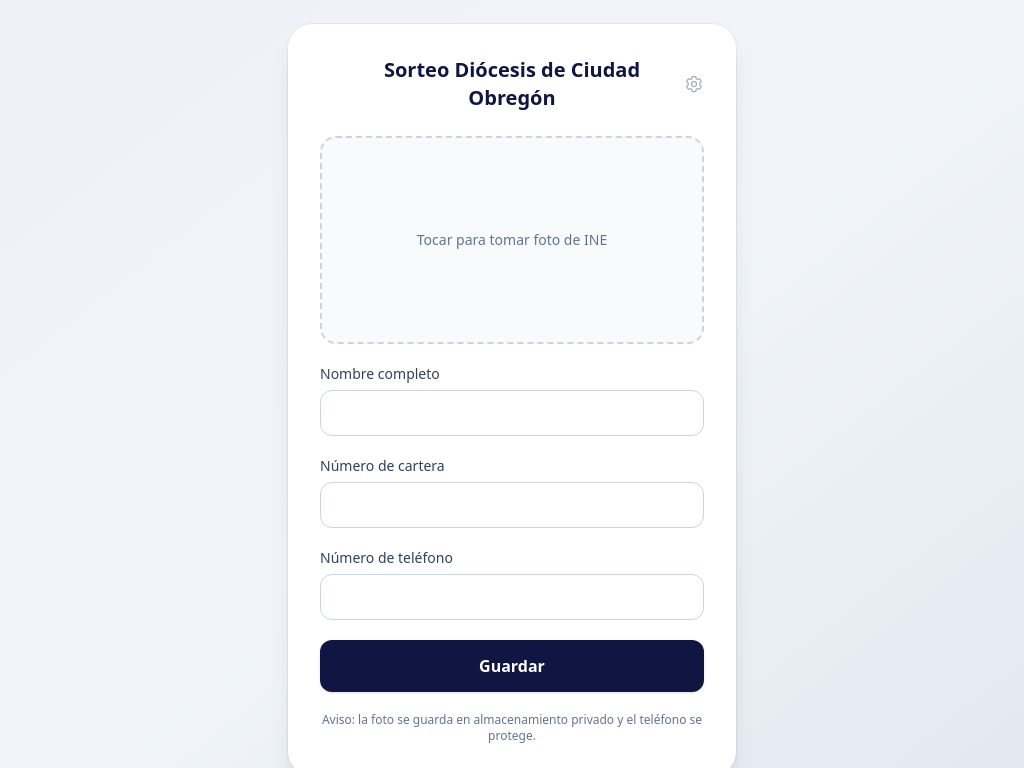
Test: HomeView › pide la foto si los campos están completos pero no hay foto
In the field labelled "Nombre completo": (512, 413) [320,390,704,436], type "Juan Pérez"
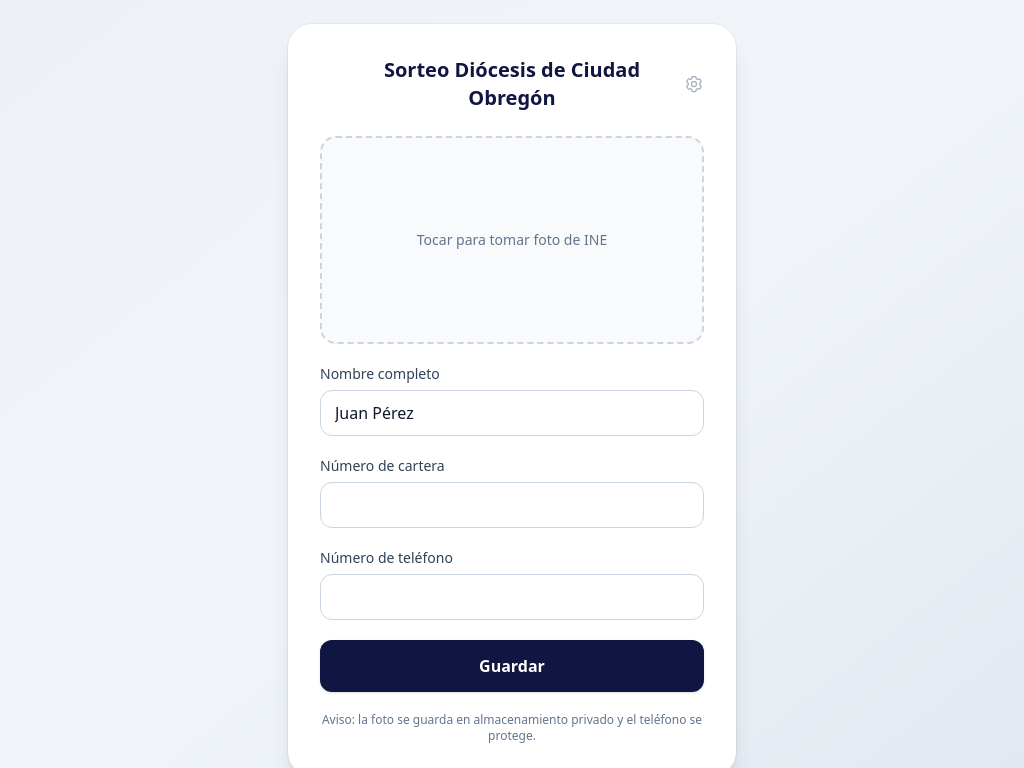
In the field labelled "Número de cartera": (512, 505) [320,482,704,528], type "7"
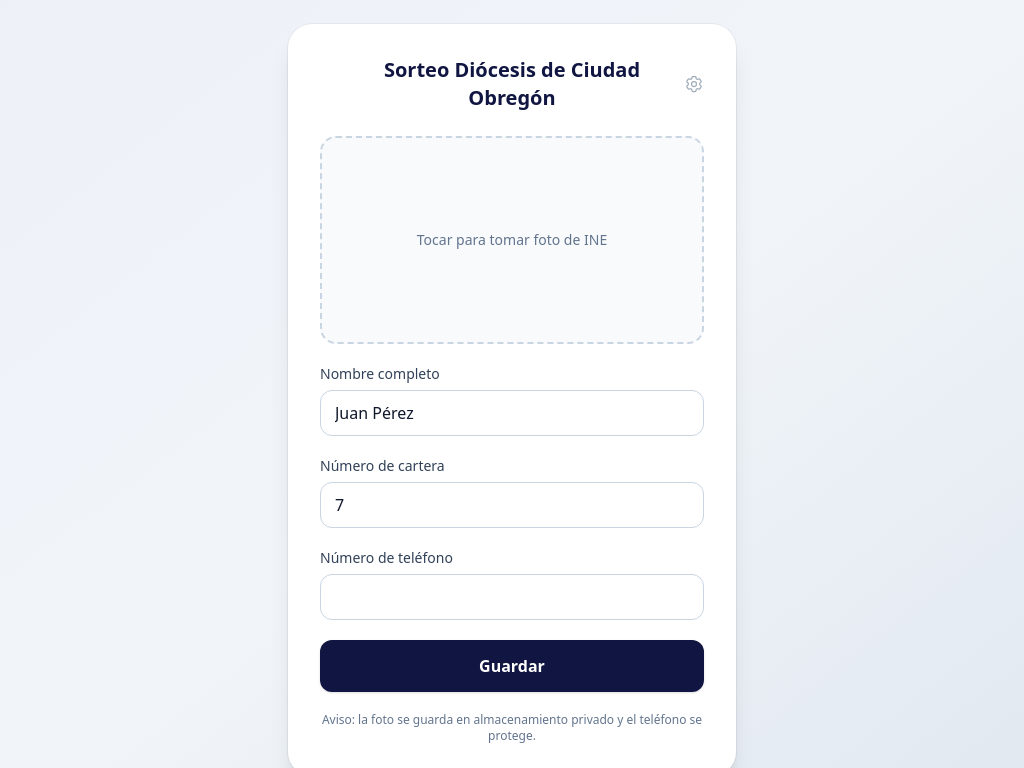
In the field labelled "Número de teléfono": (512, 597) [320,574,704,620], type "6441234567"
(page scrolled)
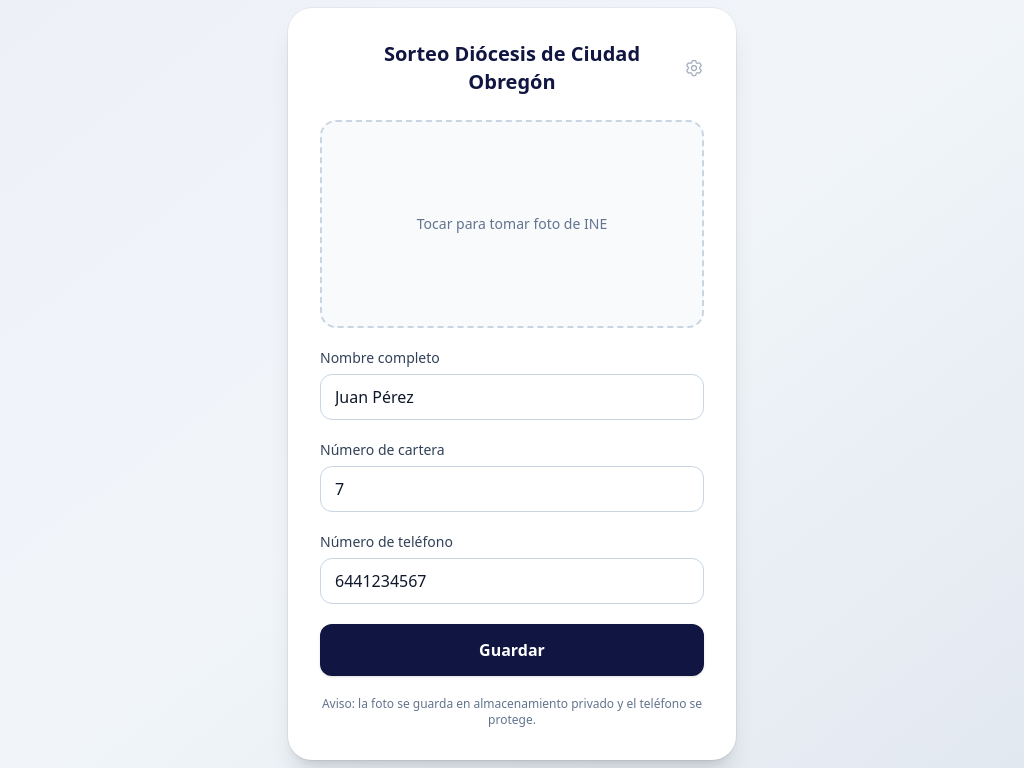
Submit the form, box [288,8,736,760]
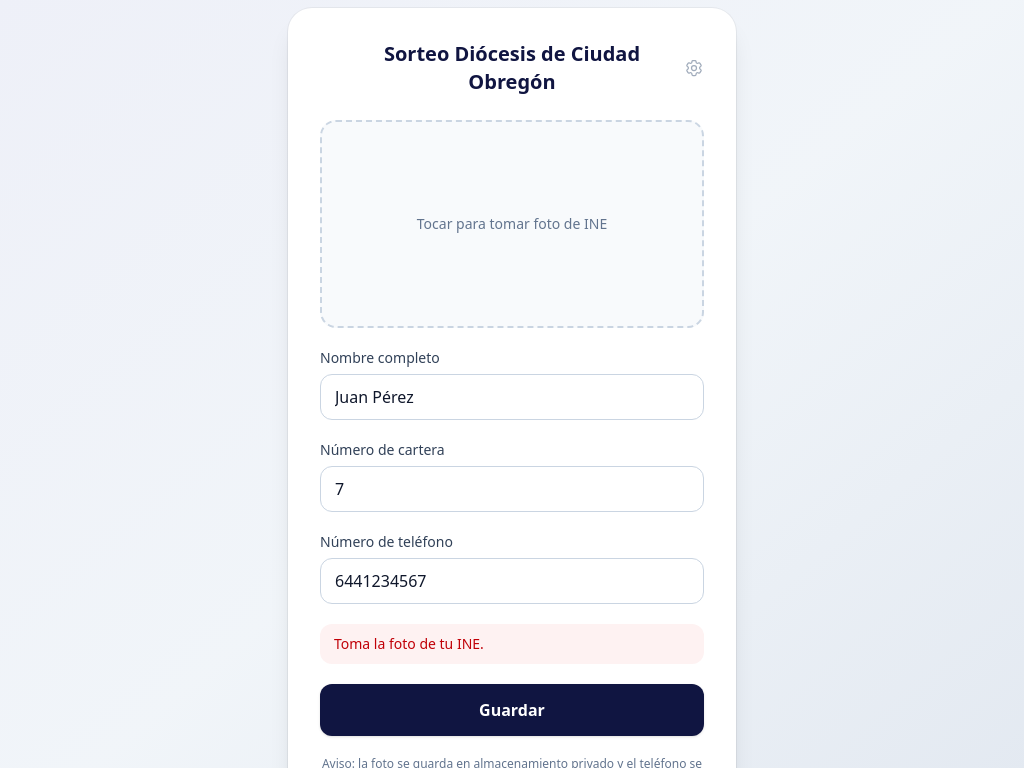
Check: the text "Toma la foto de tu INE" is shown, box [334,634,484,653]
